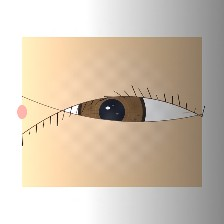pinguecula_lesion: (48, 102, 82, 129)
